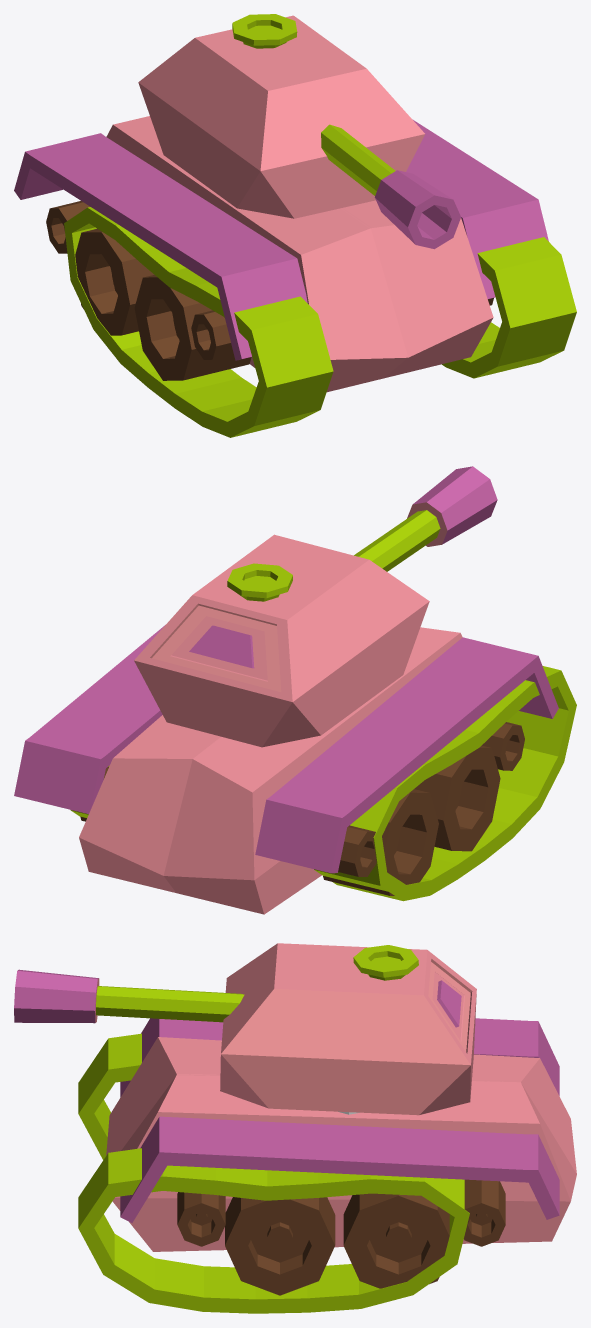
The model's file is tank3-v.1.4.gltf.
3 renders of one model, top to bottom at view 1: azimuth 30°, elevation 25°; view 2: azimuth 150°, elevation 25°; view 3: azimuth 270°, elevation 25°, orthographic. The views are drawn at different scales.
Visible parts, largest first — view 1: Cube.001, Cube.003, Cube, Cube.002, Cylinder.003, Cylinder.001, Cylinder.002, Cylinder.006, Cylinder.004, Cylinder.005; view 2: Cube.001, Cube.002, Cube, Cube.003, Cylinder.003, Cylinder.001, Cylinder.002, Cylinder.006, Cylinder.005, Cylinder.004; view 3: Cube.001, Cube.003, Cube, Cube.002, Cylinder.001, Cylinder.003, Cylinder.002, Cylinder.005, Cylinder.004, Cylinder.006.
Part boxes in pixels (x1,y1,x2,y2): Cube.001: (138,15,424,218); Cube.003: (64,207,576,437); Cube: (106,116,493,392); Cube.002: (14,119,548,360); Cylinder.003: (321,124,460,249); Cylinder.001: (134,275,493,380); Cylinder.002: (75,228,154,335); Cylinder.006: (232,14,297,48); Cylinder.004: (191,310,233,359); Cylinder.005: (46,201,90,253); Cube.001: (134,534,429,747); Cube.002: (14,625,558,873); Cube: (79,627,462,914); Cube.003: (70,666,576,901); Cylinder.003: (354,466,497,571); Cylinder.001: (414,745,500,851); Cylinder.002: (80,789,438,895); Cylinder.006: (227,563,292,601); Cylinder.005: (103,766,376,876); Cylinder.004: (482,722,524,770); Cube.001: (220,943,476,1115); Cube.003: (78,1033,469,1313); Cube: (106,1037,576,1251); Cube.002: (120,1018,559,1222); Cylinder.001: (225,1197,335,1295); Cylinder.003: (14,969,244,1023); Cylinder.002: (343,1193,449,1288); Cylinder.005: (464,1179,505,1246); Cylinder.004: (177,1192,225,1246); Cylinder.006: (353,945,418,980).
Size of the model in its own units: 3.23 by 2.87 by 5.15.
